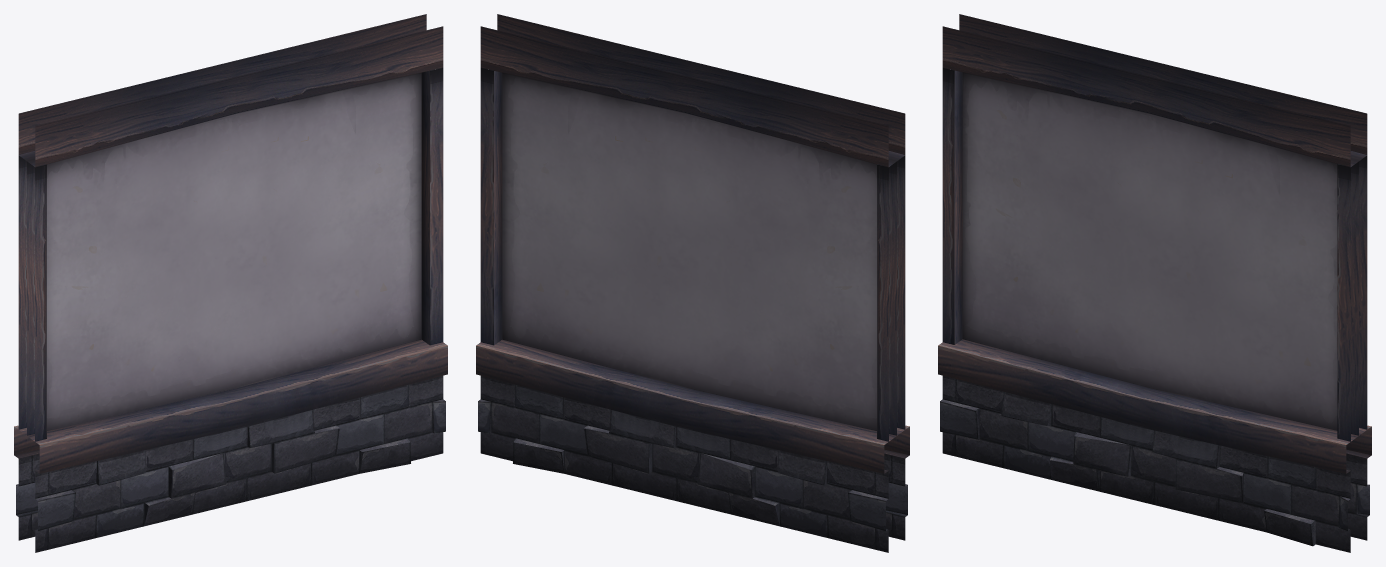
The model's file is Wall_2sided_detailed.fbx.
3 views of the same model, side by side, from view 1: azimuth 30°, elevation 25°; view 2: azimuth 150°, elevation 25°; view 3: azimuth 330°, elevation 25° (orthographic).
Visible parts, largest first — view 1: Wall_2sided_detailed; view 2: Wall_2sided_detailed; view 3: Wall_2sided_detailed.
Part boxes in pixels (left/top/right/bottom): Wall_2sided_detailed: left=14, top=14, right=447, bottom=552; Wall_2sided_detailed: left=476, top=14, right=909, bottom=552; Wall_2sided_detailed: left=938, top=14, right=1371, bottom=552.
Bounding box in the file's own units: 0.6266 × 0.6266 × 0.0678.
